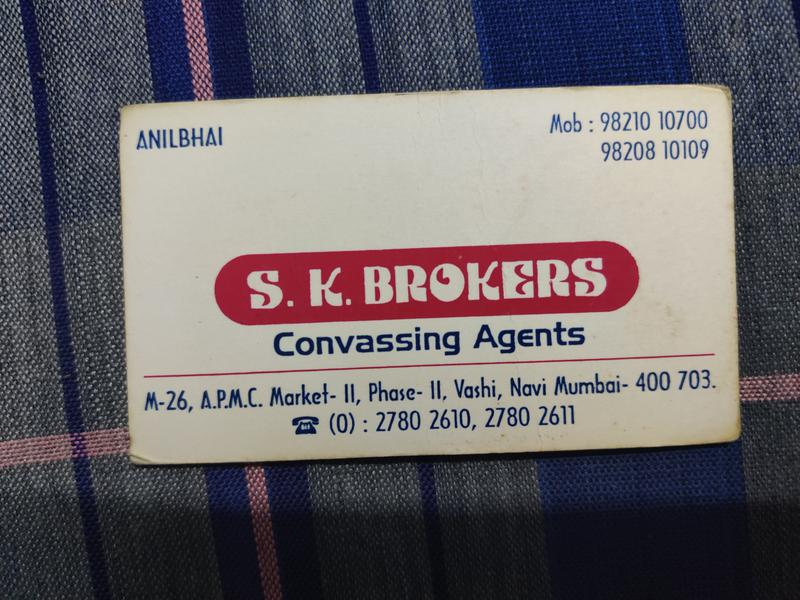card: (114, 86, 742, 468)
